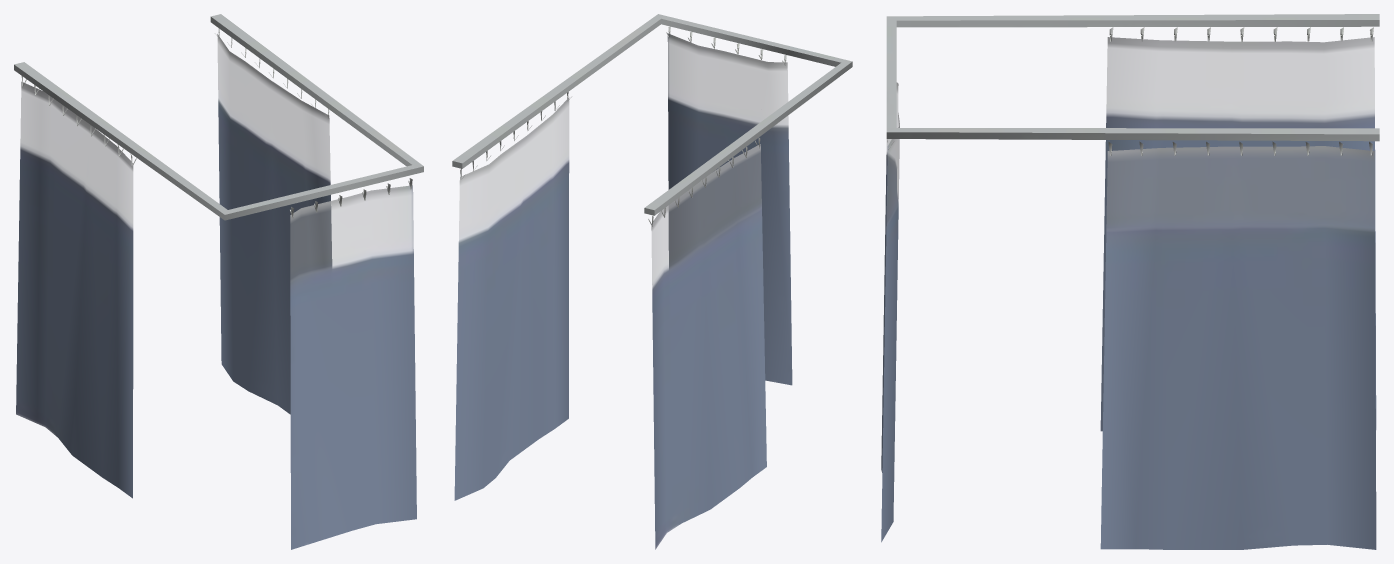
Rendered from bed-curtain.lod1.glb.
3 views of the same model, side by side, from view 1: azimuth 30°, elevation 25°; view 2: azimuth 150°, elevation 25°; view 3: azimuth 270°, elevation 25° (orthographic). The views are drawn at different scales.
Visible parts, largest first — view 1: defaultMaterial (×2); view 2: defaultMaterial (×2); view 3: defaultMaterial (×2).
Boxes of the visible parts, x1,y1,x2,y2 form: defaultMaterial (×2): (14, 14, 423, 549); defaultMaterial (×2): (452, 14, 852, 549); defaultMaterial (×2): (881, 14, 1379, 549).
Size of the model in its own units: 1.18 by 1.9 by 2.07.
Materials: 2 (2 with a texture image).
